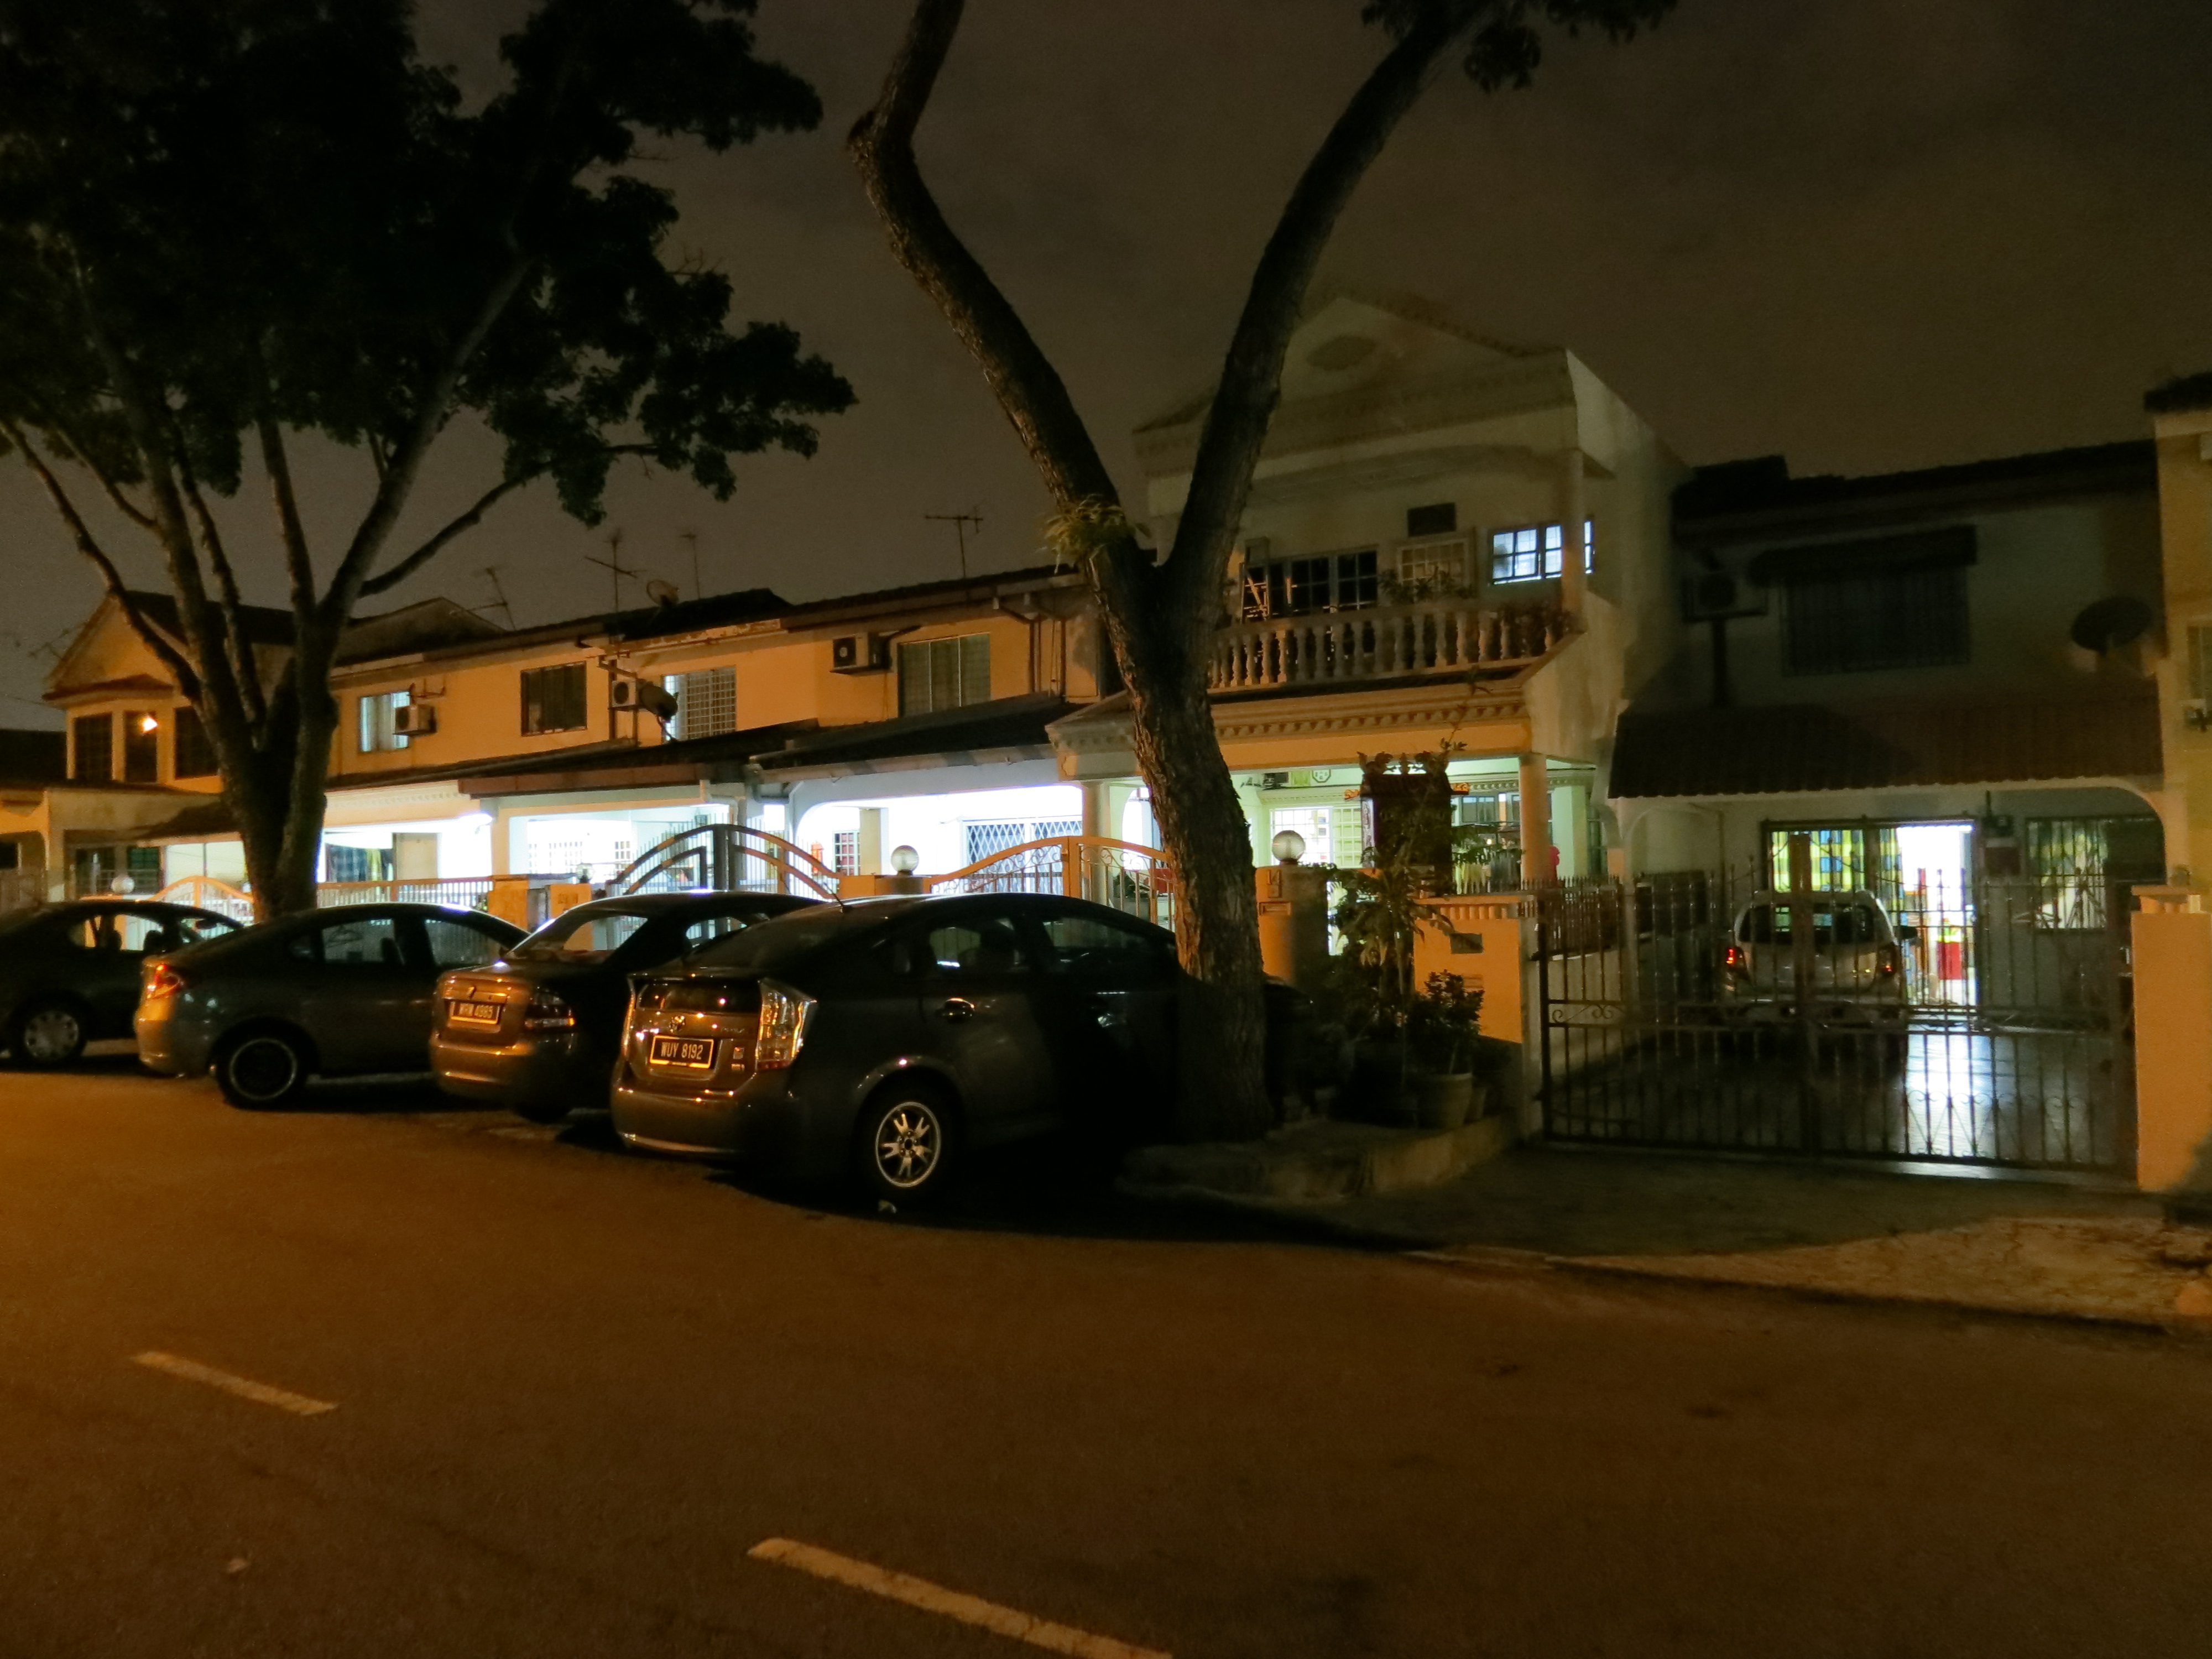car: (110, 901, 529, 1129)
